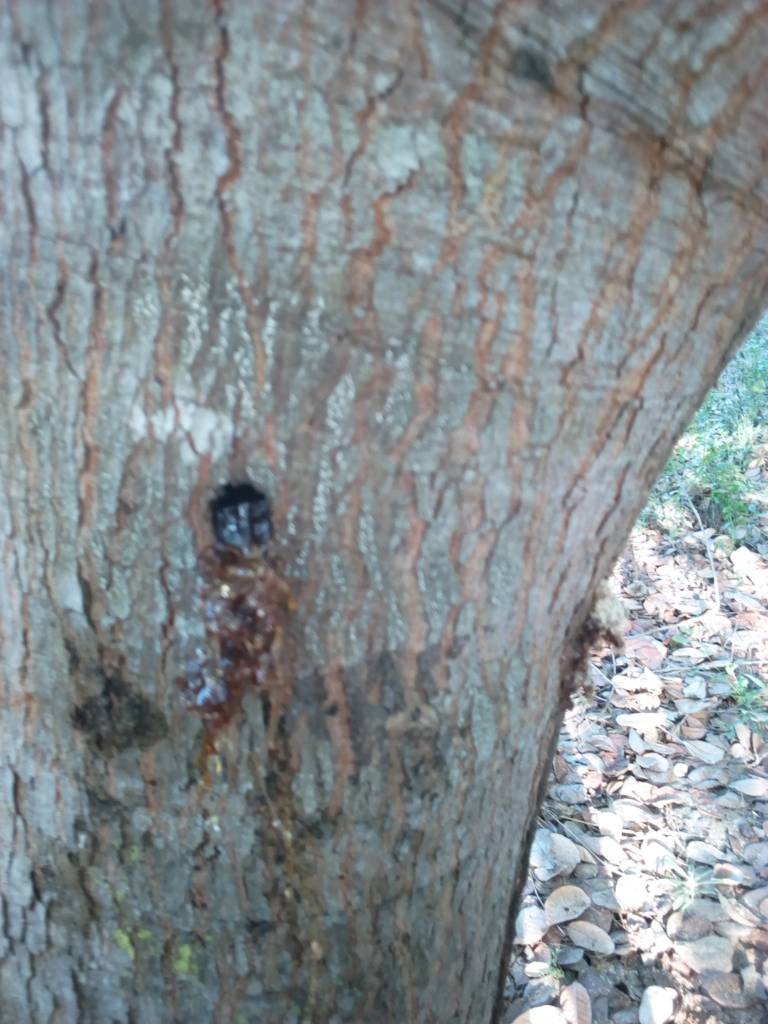Apate terebrans: (164, 470, 324, 592)
